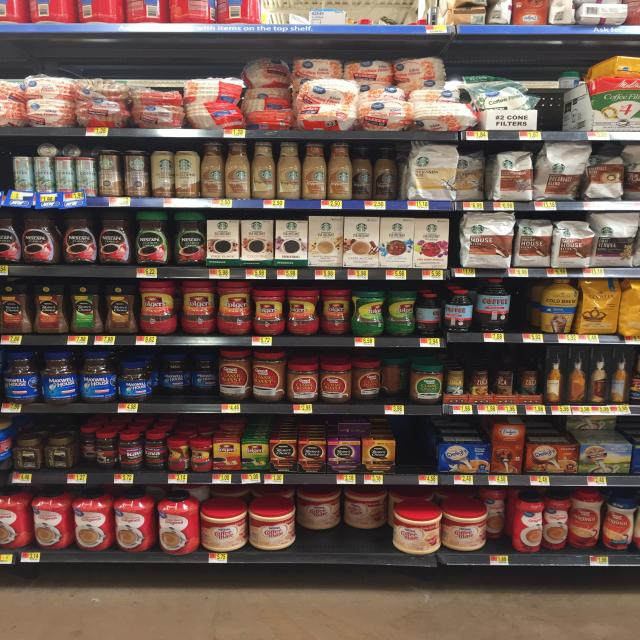unorganised: (296, 489, 386, 535), (242, 54, 293, 127), (536, 141, 590, 204), (471, 70, 535, 119), (159, 353, 216, 397), (352, 356, 405, 403), (353, 145, 397, 201), (167, 435, 214, 474), (484, 488, 513, 550), (456, 148, 487, 202), (417, 288, 443, 338), (568, 415, 616, 433), (77, 426, 97, 468)
